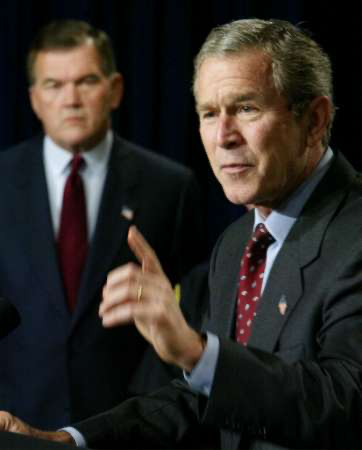Face: (199, 70, 285, 207), (32, 54, 110, 151)
